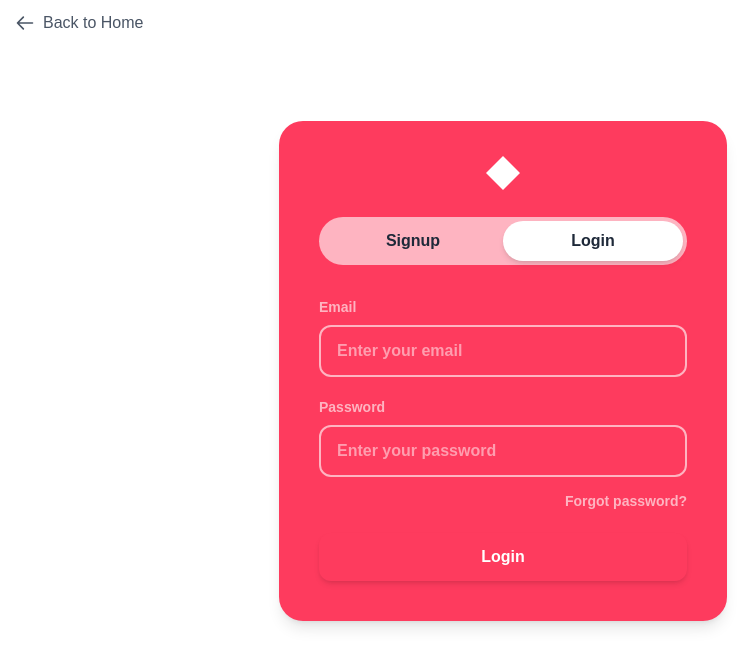
it: LoginPage › TC-090 [S-01]: shows the server-provided error message when login fails
Type "jane@school.edu" into the field labelled "Email" at (503, 351), box [319,325,687,377]
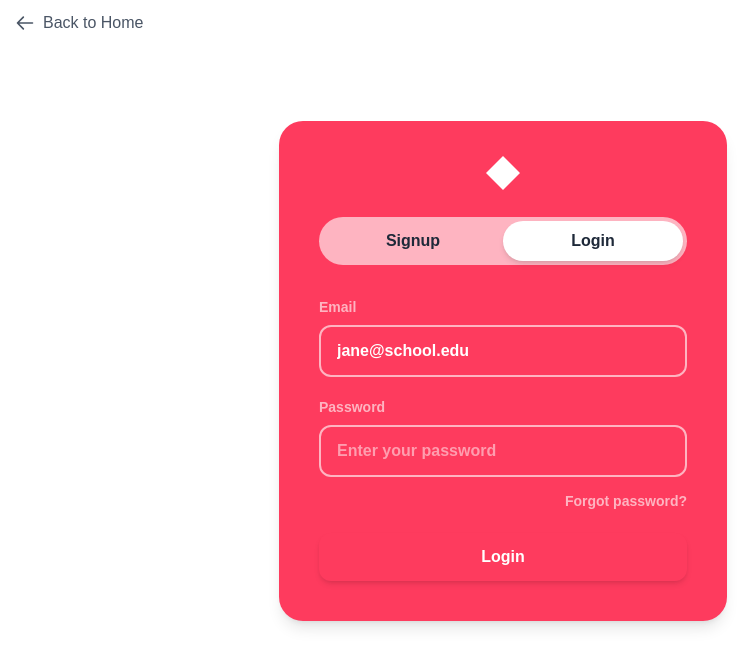
Type "Valid123!" into the password field labelled "Password" at (503, 451), box [319,425,687,477]
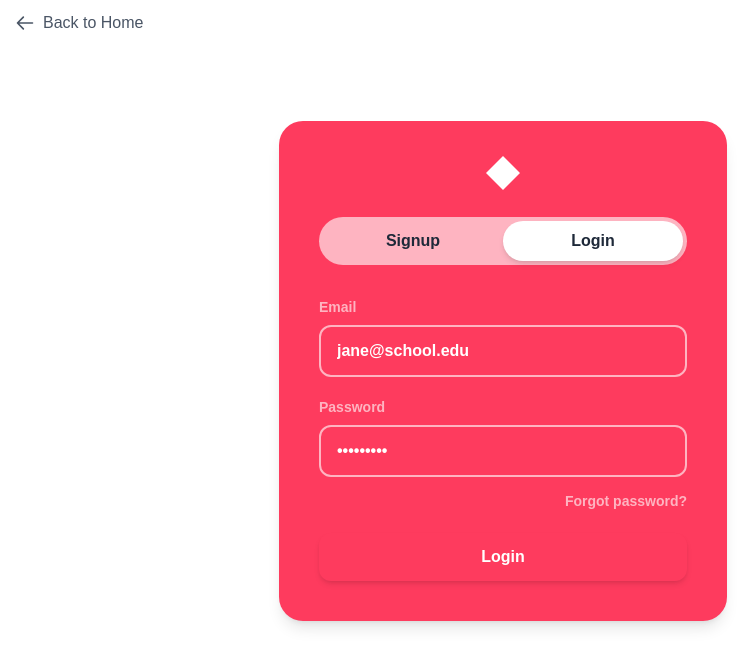
Click the button "Login" at (503, 557), box [319,533,687,581]
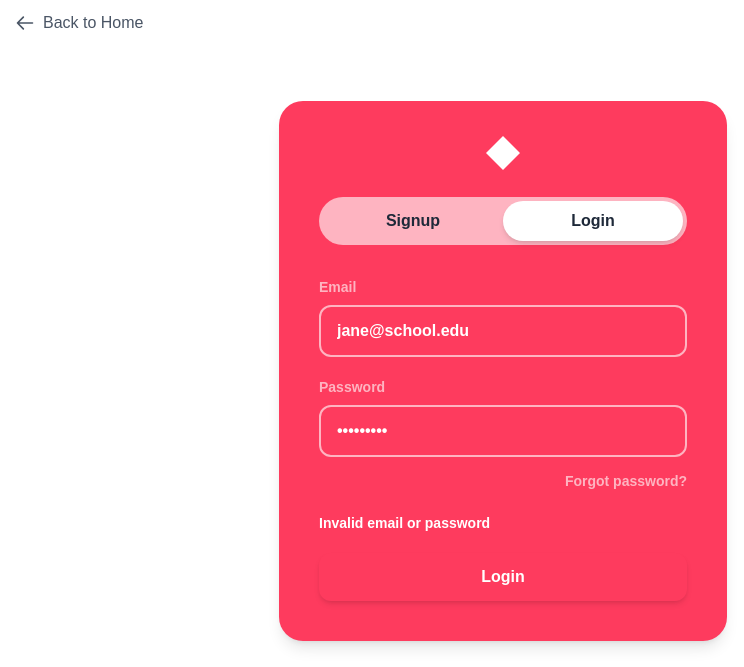
Expected: the text "Invalid email or password" is shown, [319,515,490,531]
